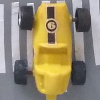amarillo_norte: (15, 4, 91, 99)
